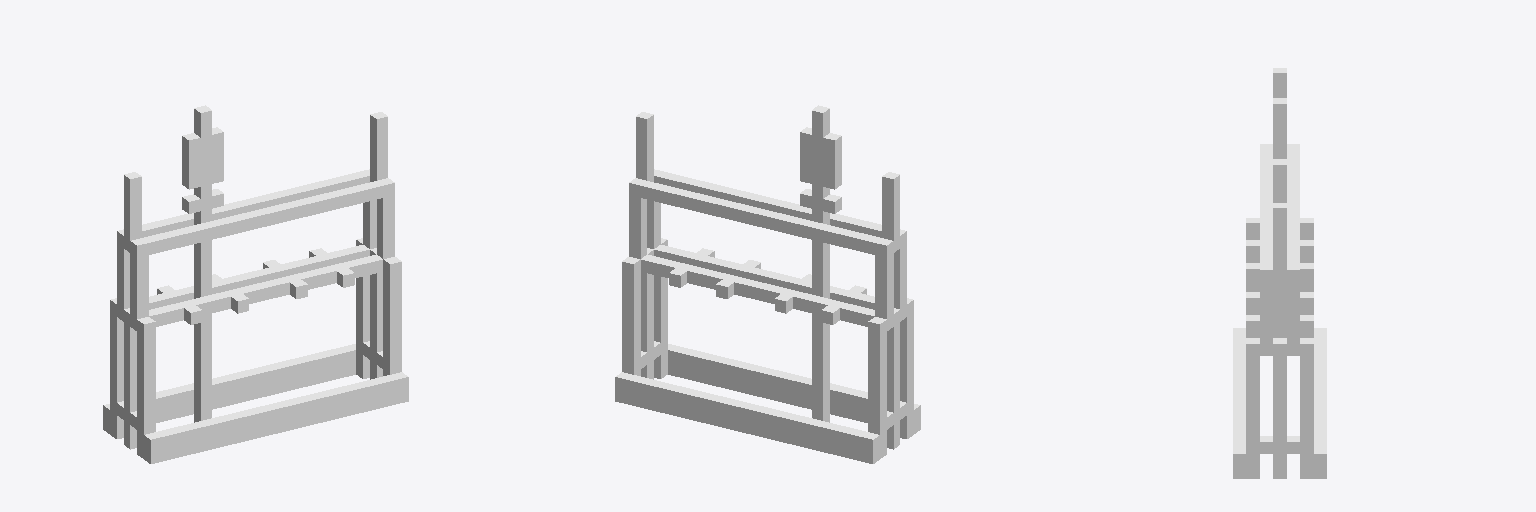
Rendered from sword_rack_3.obj.
3 renders of one model, left to right at view 1: azimuth 30°, elevation 25°; view 2: azimuth 150°, elevation 25°; view 3: azimuth 270°, elevation 25°, orthographic.
Parts seen in each view (by area): view 1: object 1; view 2: object 1; view 3: object 1.
Boxes of the visible parts, box(x1,y1,x2,y2) form: object 1: box(103, 105, 408, 463); object 1: box(615, 105, 920, 463); object 1: box(1233, 68, 1326, 478).
Bounding box in the file's own units: 2.2 × 2.6 × 0.7.